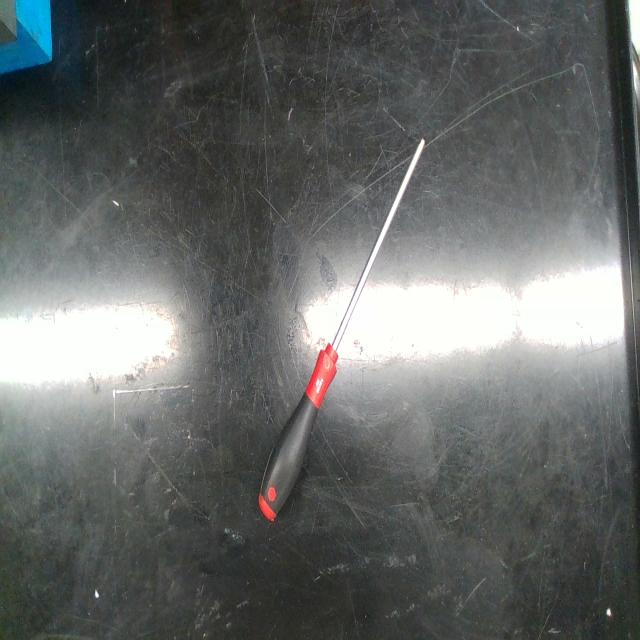Screwdriver: (259, 140, 425, 520)
